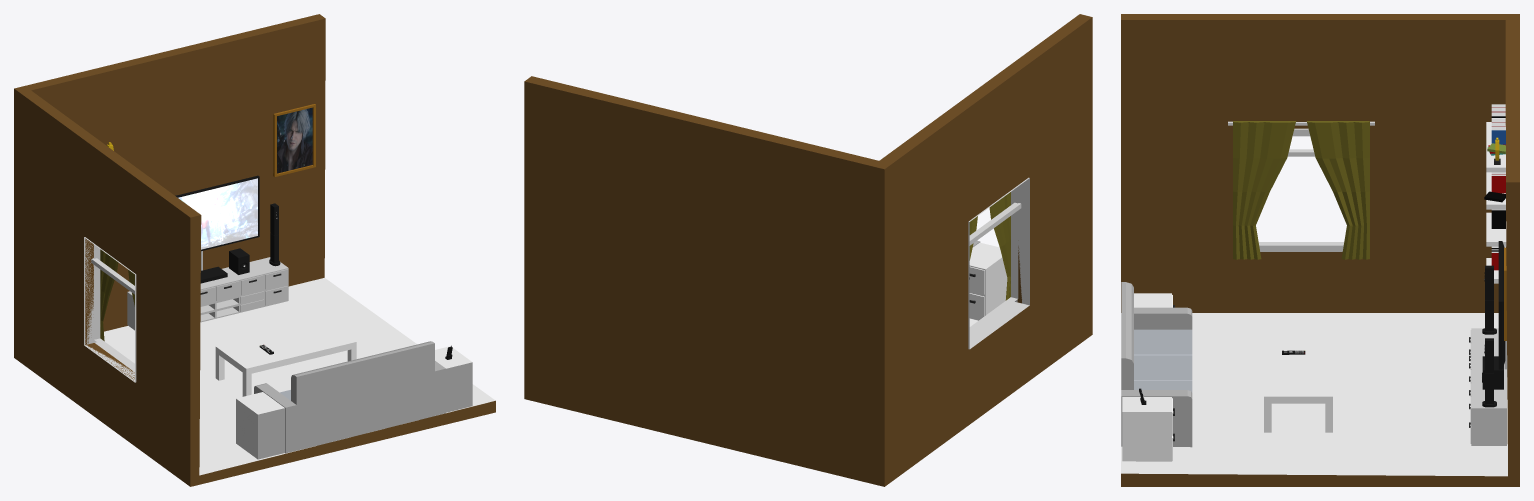
Rendered from LivingRoom.glb.
The picture shows the model from 3 angles, left to right: view 1: azimuth 30°, elevation 25°; view 2: azimuth 150°, elevation 25°; view 3: azimuth 270°, elevation 25°; orthographic projection. The views are drawn at different scales.
Parts seen in each view (by area): view 1: LivingRoomBase, Sofa, Table, Drawer, Monitor, TVDesk, PhotoFrame, Cube.005, Cube.006, Cube.002; view 2: LivingRoomBase, Cube.005, Drawer, Cube.006; view 3: LivingRoomBase, Cube.006, Sofa, Table, Drawer, TVDesk, Books, Cube.004, Cube.002, Cube.005, Monitor.
Boxes of the visible parts, box(x1,y1,x2,y2) form: LivingRoomBase: box(14, 14, 495, 486); Sofa: box(254, 341, 445, 453); Table: box(215, 319, 356, 396); Drawer: box(236, 346, 472, 459); Monitor: box(175, 175, 259, 251); TVDesk: box(127, 257, 288, 330); PhotoFrame: box(273, 104, 315, 176); Cube.005: box(84, 237, 136, 382); Cube.006: box(100, 249, 134, 341); Cube.002: box(269, 203, 280, 266); LivingRoomBase: box(524, 14, 1092, 486); Cube.005: box(968, 177, 1029, 349); Drawer: box(969, 242, 1007, 320); Cube.006: box(969, 192, 1010, 300); LivingRoomBase: box(1121, 14, 1519, 486); Cube.006: box(1233, 121, 1369, 259); Sofa: box(1121, 282, 1192, 447); Table: box(1264, 335, 1332, 432); Drawer: box(1122, 293, 1174, 461); TVDesk: box(1470, 328, 1506, 445); Books: box(1484, 104, 1505, 270); Cube.004: box(1486, 122, 1506, 283); Cube.002: box(1482, 265, 1496, 407); Cube.005: box(1228, 121, 1374, 251); Monitor: box(1498, 241, 1505, 369).
Size of what is drawn, in the model's own units: 16.06 by 13.48 by 16.
Materials: 28 (2 with a texture image).
